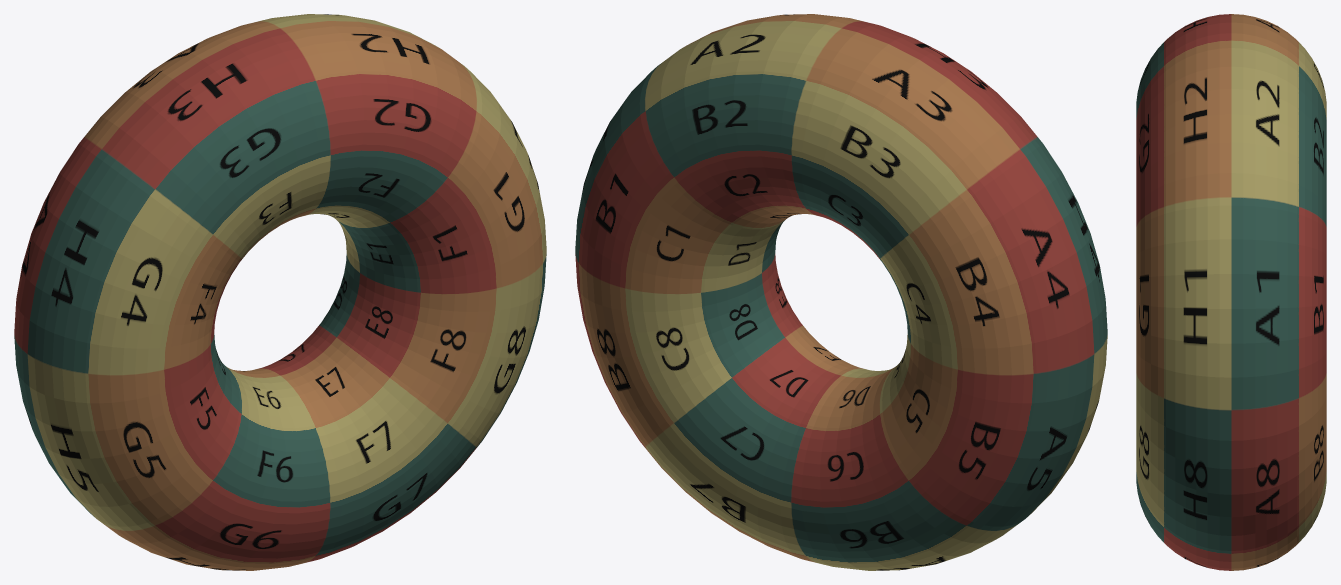
File: texture_torus_R13_r29.glb
3 renders of one model, left to right at view 1: azimuth 30°, elevation 25°; view 2: azimuth 150°, elevation 25°; view 3: azimuth 270°, elevation 25°, orthographic. The views are drawn at different scales.
Visible parts, largest first — view 1: world; view 2: world; view 3: world.
Boxes of the visible parts, x1,y1,x2,y2 form: world: [14, 14, 546, 570]; world: [575, 14, 1107, 570]; world: [1136, 14, 1326, 570].
Bounding box in the file's own units: 28.4 × 28.34 × 9.71.
1 material, 1 textured.
